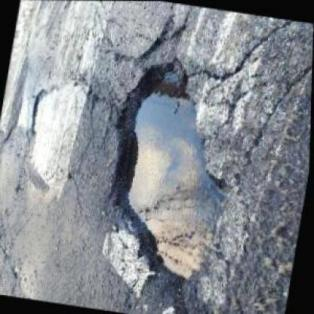Hueco: (89, 53, 250, 286), (27, 85, 48, 135)
